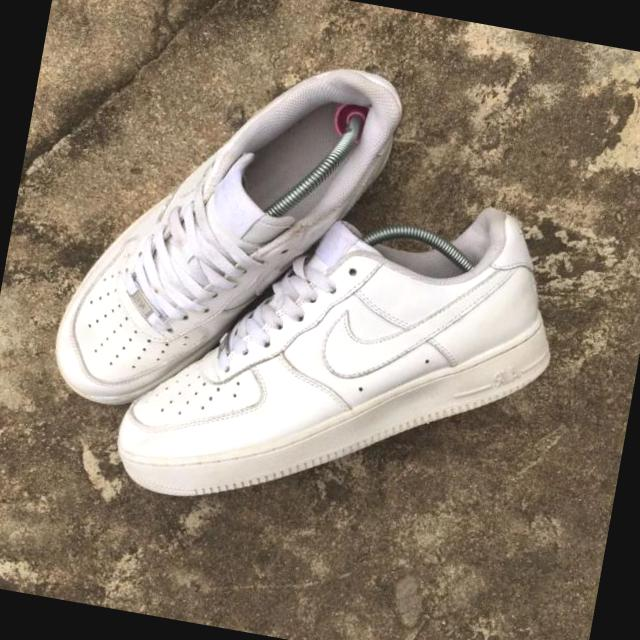nike_original_airforce: (100, 158, 582, 568), (39, 22, 408, 452)
